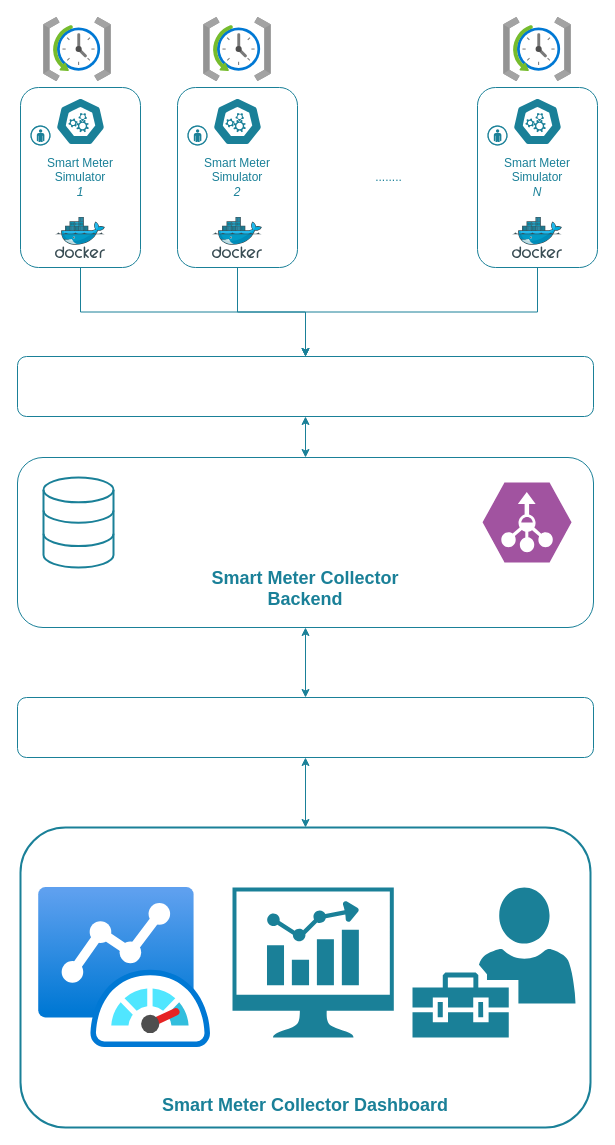
Some shapes in this 615 by 1145 pixel diagram are drawn without their labels. The centre of each missing label's shape, as x and y in pixels:
"Collector Database" belongs at (x=78, y=522).
"Dashboard REST API" belongs at (x=305, y=727).
"Smart Meter REST API" belongs at (x=305, y=386).
